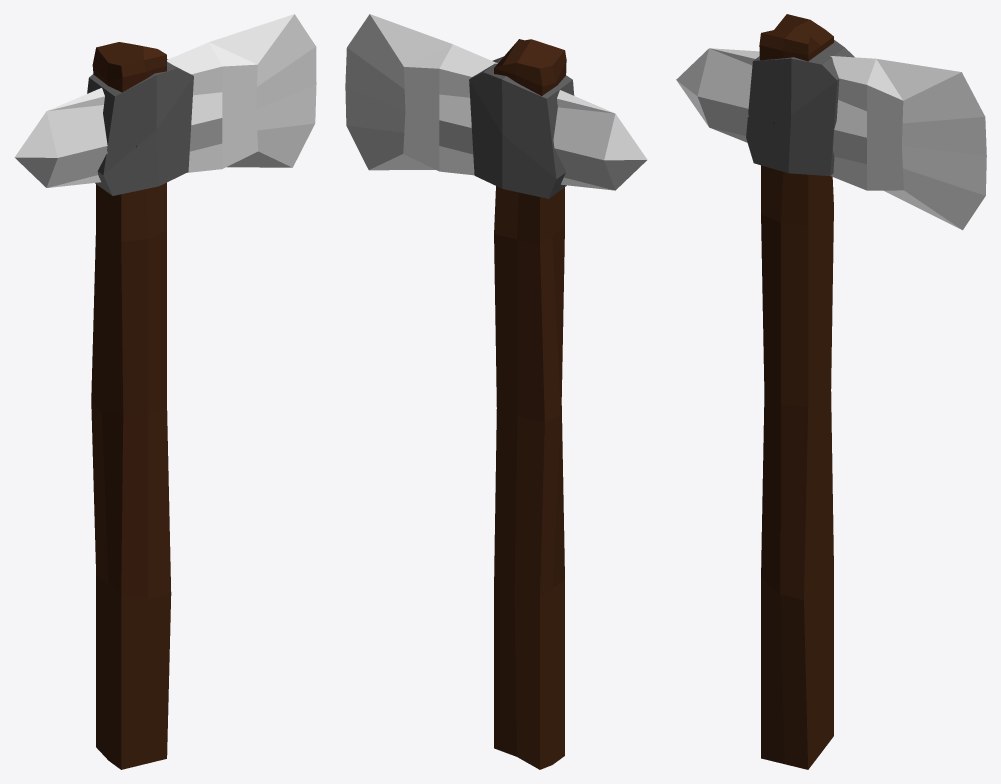
Rendered from flintAxe.fbx.
3 renders of one model, left to right at view 1: azimuth 30°, elevation 25°; view 2: azimuth 150°, elevation 25°; view 3: azimuth 330°, elevation 25°, orthographic. The views are drawn at different scales.
Parts seen in each view (by area): view 1: Cube, Куб, Cube.002; view 2: Cube, Куб, Cube.002; view 3: Cube, Куб, Cube.002.
Boxes of the visible parts, x1,y1,x2,y2 form: Cube: (91,42,171,769); Куб: (14,14,316,187); Cube.002: (87,59,193,195); Cube: (494,39,566,769); Куб: (345,14,647,190); Cube.002: (469,56,574,198); Cube: (759,14,833,769); Куб: (676,48,986,230); Cube.002: (746,40,854,175).
Bounding box in the file's own units: 157 × 355 × 32.5.
